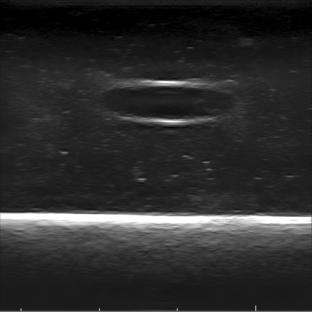vessel: (95, 80, 241, 125)
